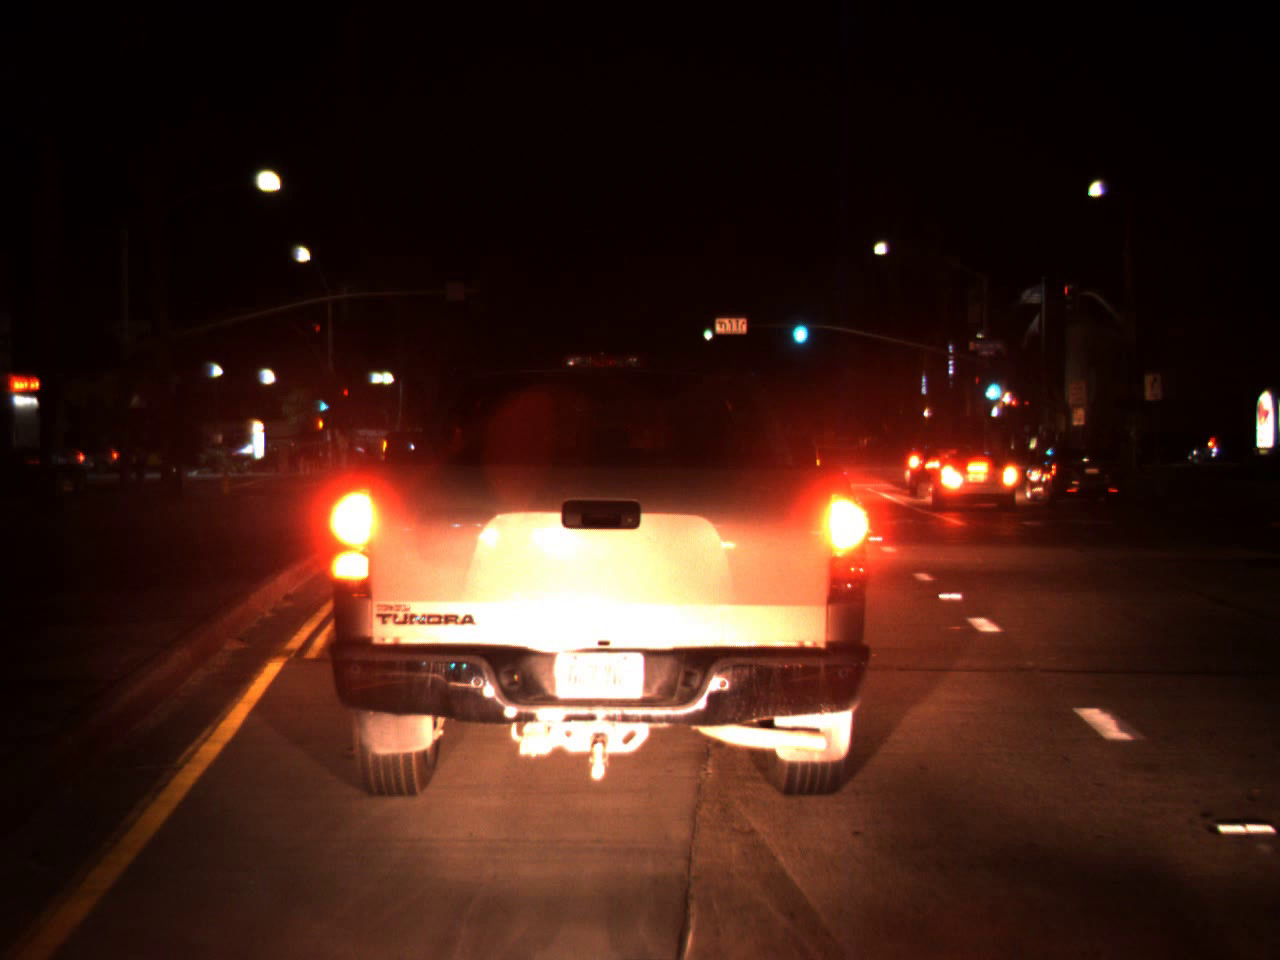go: (787, 302, 810, 350), (979, 366, 1004, 405), (698, 316, 714, 343), (315, 392, 329, 413)
